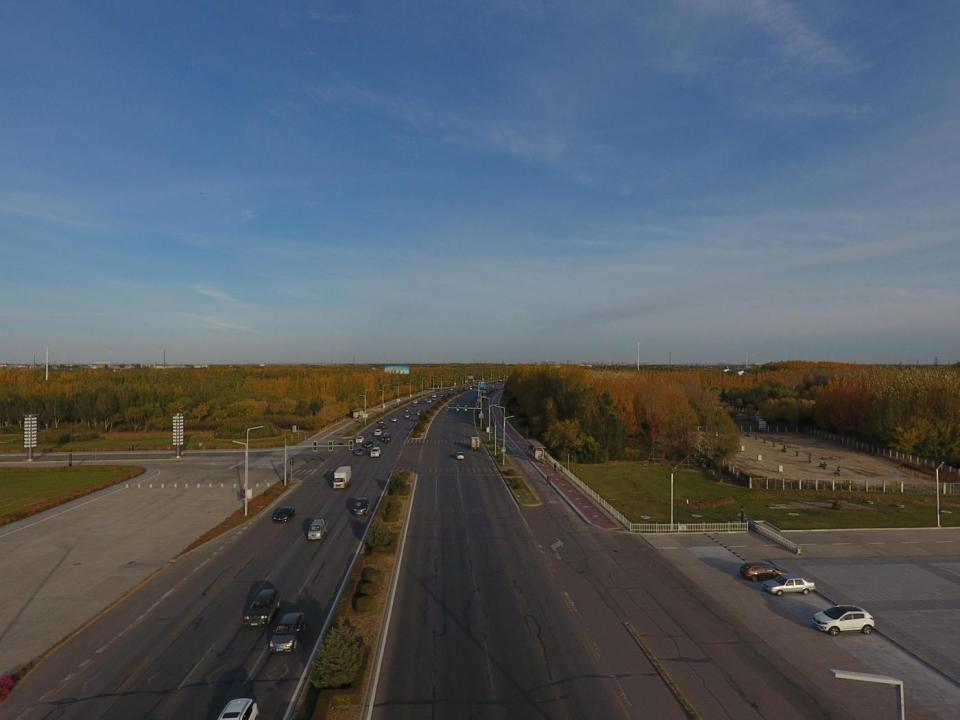car: (811, 604, 876, 636), (268, 612, 308, 654), (243, 588, 282, 627), (762, 574, 817, 596), (740, 562, 791, 581), (217, 697, 259, 720), (271, 506, 296, 522), (380, 432, 392, 444), (370, 446, 381, 458), (354, 446, 365, 456), (354, 434, 365, 444), (455, 450, 466, 459), (373, 428, 382, 437), (365, 440, 374, 448), (380, 422, 388, 428), (390, 416, 398, 422), (404, 412, 411, 418), (378, 418, 384, 424), (410, 409, 416, 415), (417, 410, 423, 416), (426, 398, 432, 404), (404, 407, 410, 412), (431, 394, 437, 398), (413, 400, 418, 404), (420, 399, 424, 404), (424, 396, 428, 401), (413, 402, 417, 406), (449, 387, 453, 391), (454, 388, 458, 392), (431, 397, 436, 400), (440, 392, 443, 397), (460, 386, 463, 390), (446, 391, 450, 394)
truck: (306, 517, 329, 540), (332, 466, 352, 489), (469, 436, 480, 450)
van: (352, 497, 371, 516)
